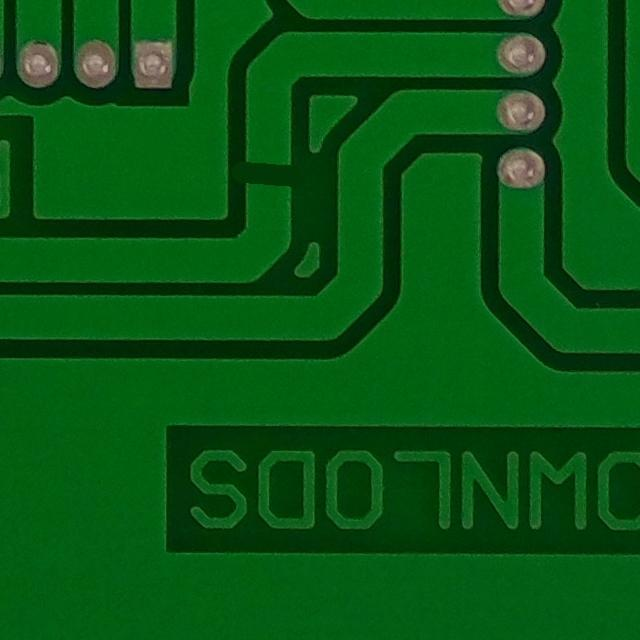open_circuit: (230, 144, 307, 201)
